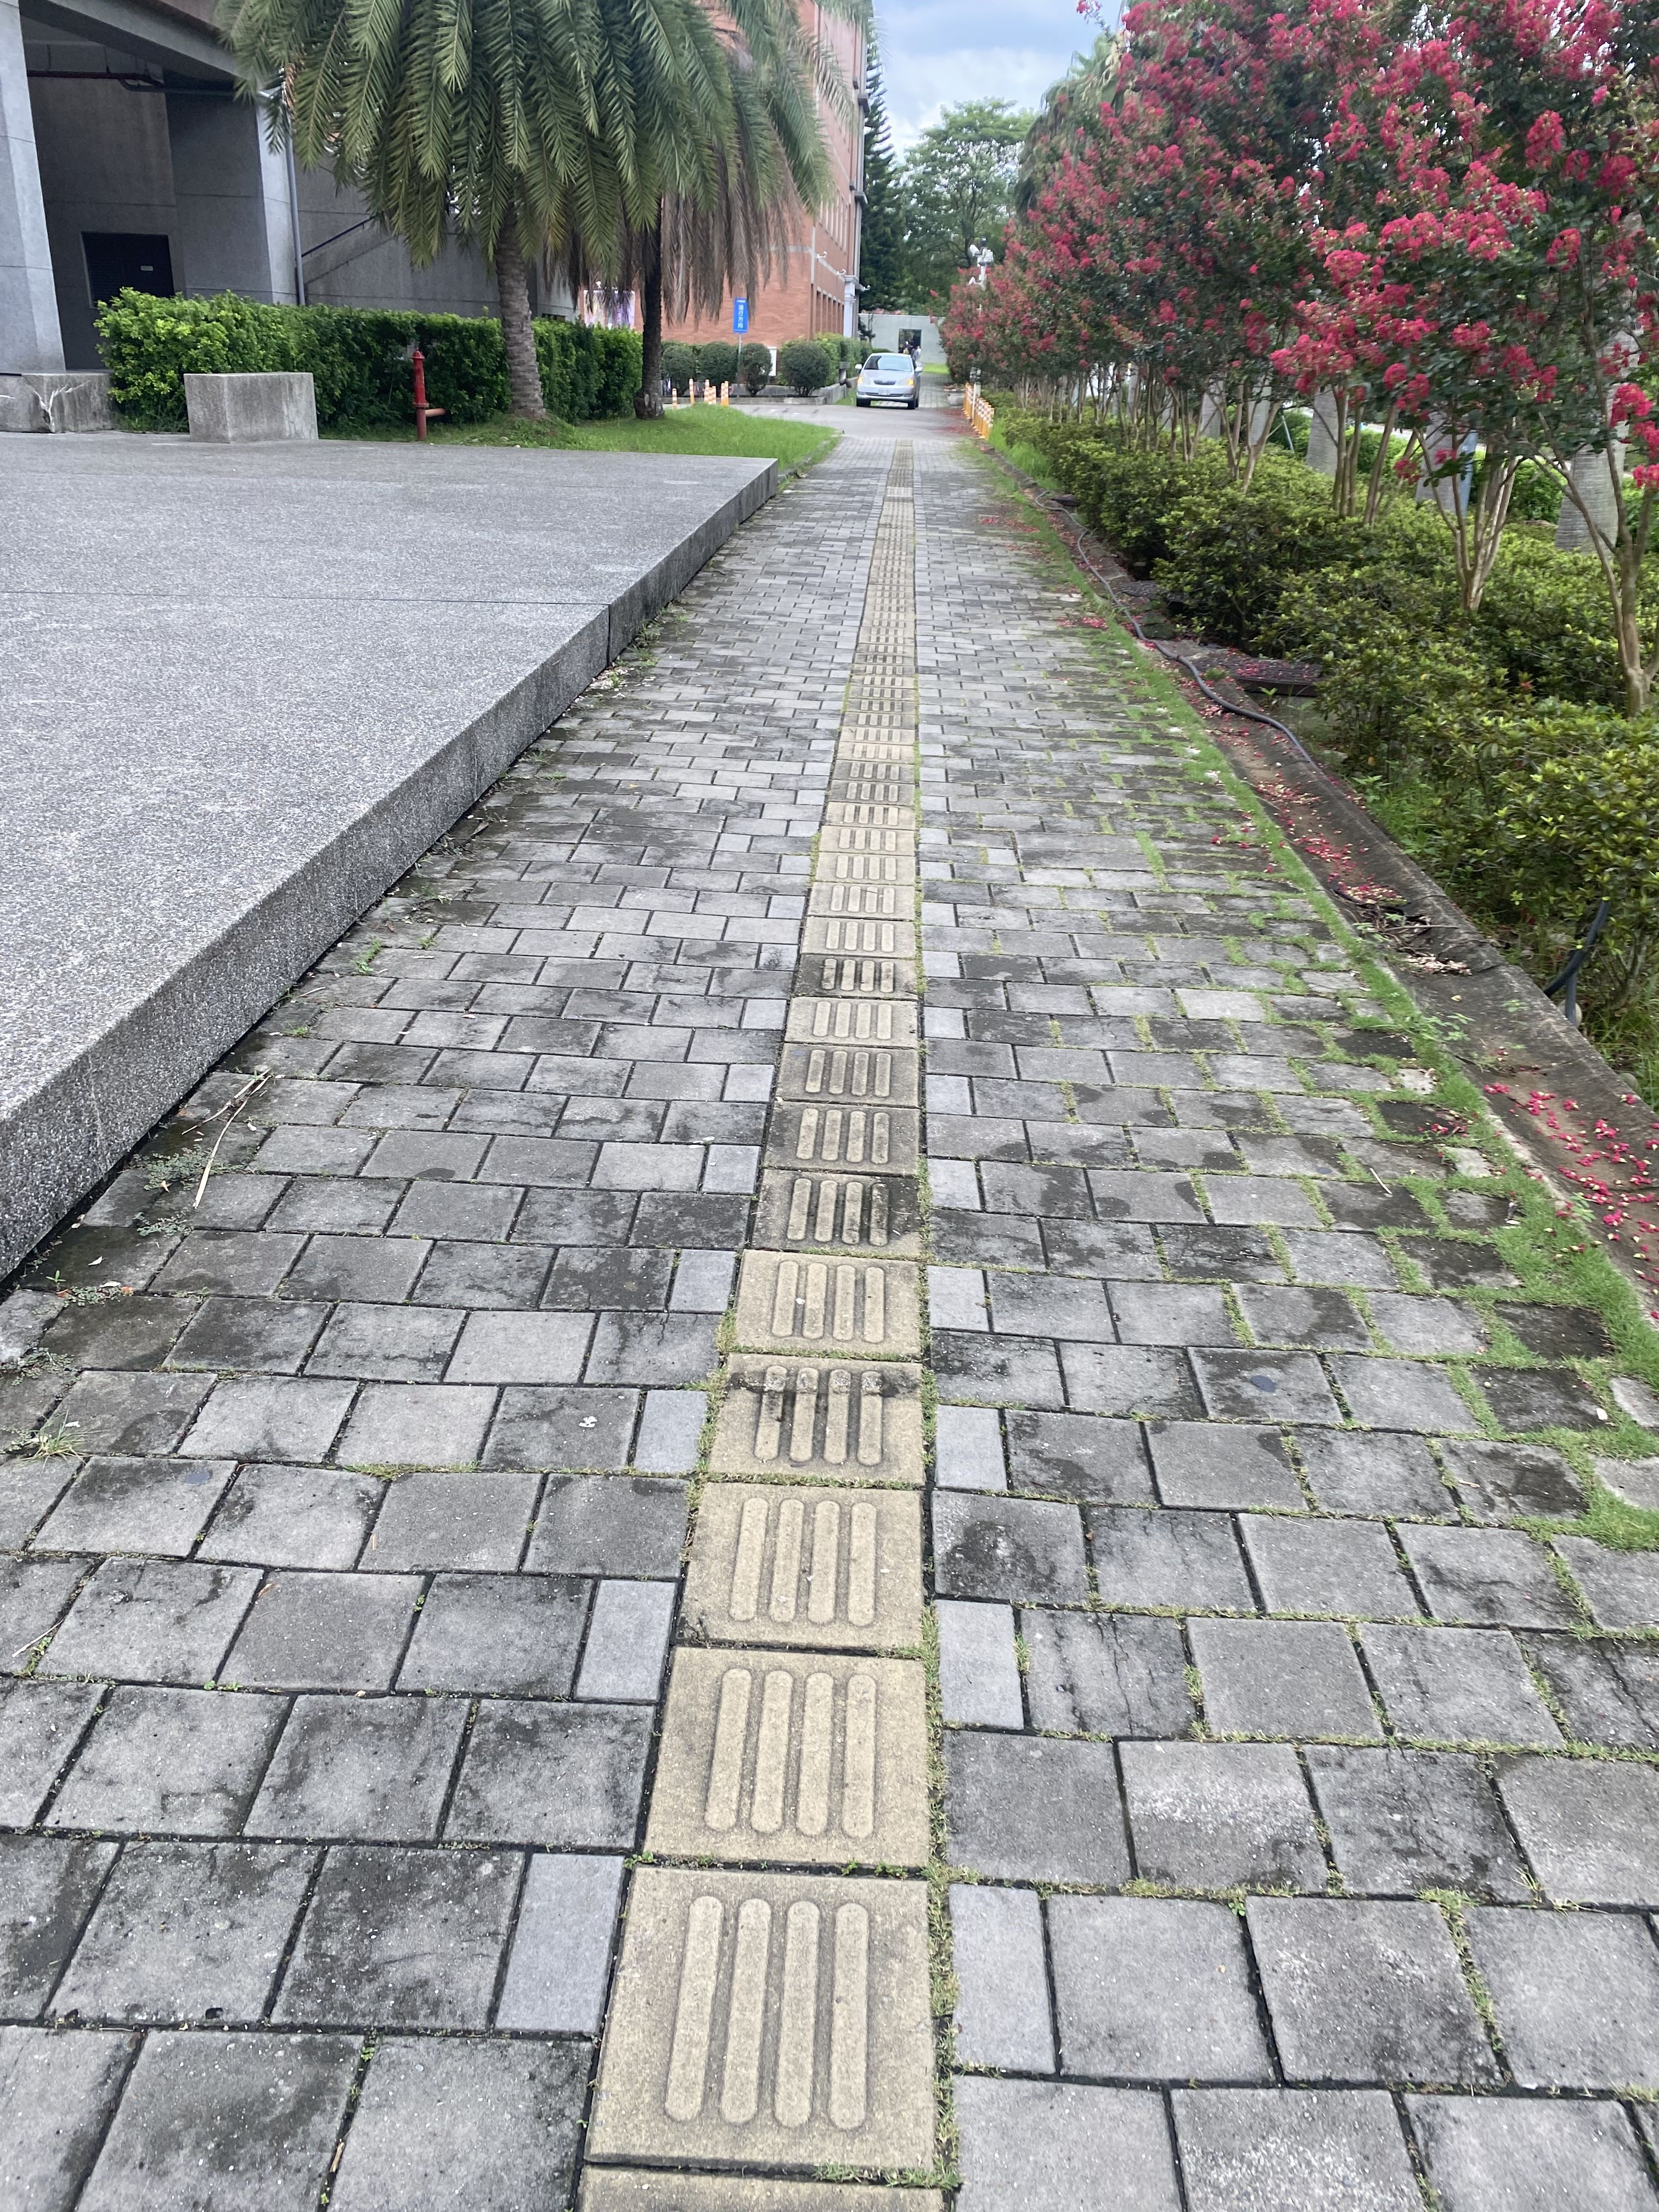0: (3, 711, 1659, 2212)
sidewalk: (549, 448, 1359, 1655)
